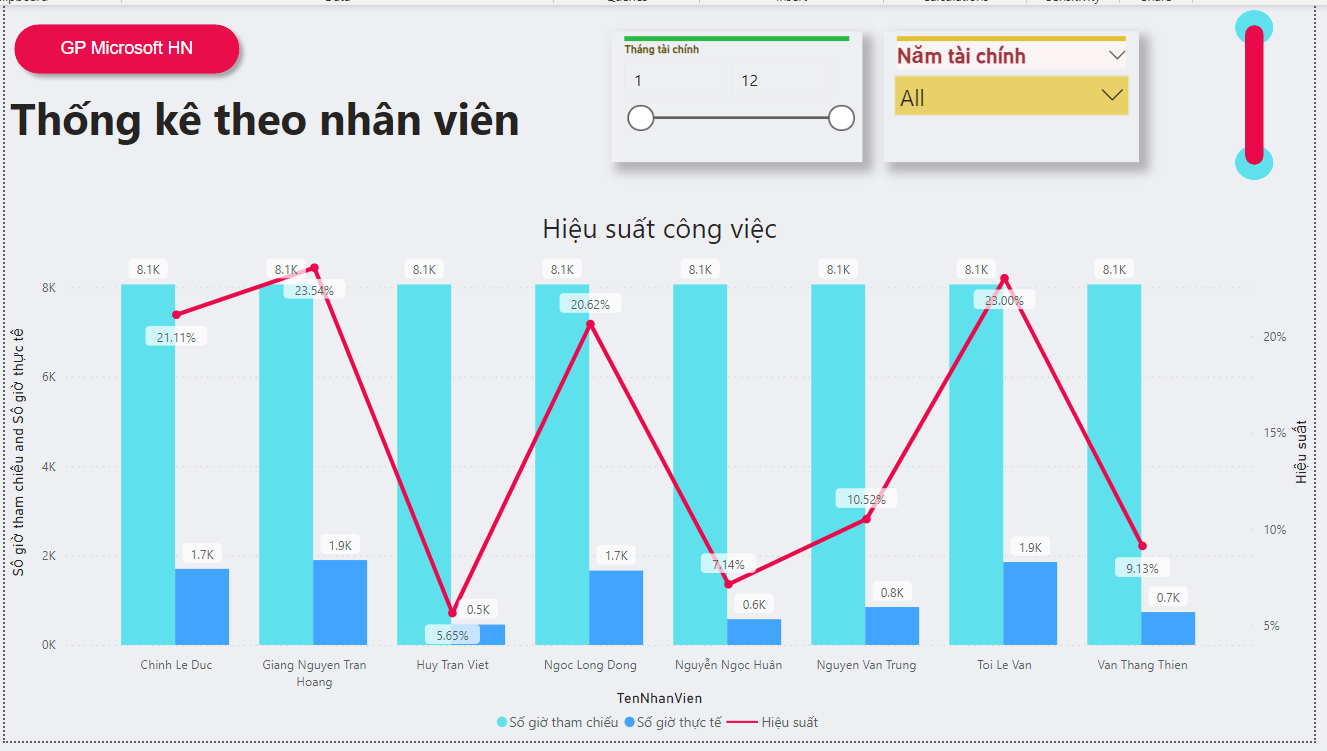

The page's visual inventory and layout, read from the dashboard file:
{"tool":"powerbi","page":{"name":"Nhân viên ","canvas":[1280,720],"ordinal":0},"visuals":[{"type":"lineClusteredColumnComboChart","title":"Hiệu suất công việc","fields":{"Category":["NhanVien.TenNhanVien"],"Y":["CongViec.SoGioThamChieu","Sum(CongViec.SoGio)"],"Y2":["CongViec.HieusuatPerMonth"]},"box":[0,199.3,1279.9,520.7],"z":2000},{"type":"shape","box":[1202.9,136.9,37.9,34.2],"z":3000},{"type":"shape","box":[1202.9,4.9,37.9,34.2],"z":4000},{"type":"shape","box":[1212.6,19.6,18.3,136.9],"z":5000},{"type":"shape","box":[0,9.8,238.4,66],"z":6000},{"type":"textbox","box":[0,75.5,563.1,123.6],"z":7000},{"type":"slicer","fields":{"Values":["Date2.Thang"]},"box":[592.6,26.2,245.8,127.7],"z":7001},{"type":"slicer","fields":{"Values":["Date2.Nam"]},"box":[859,26.2,250,127.7],"z":7002}]}

Visuals, with their boxes on the page's 1280x720 design canvas (x1, y1, x2, y2). These are canvas units, not pixel positions in the 1327x751 screenshot, which may show the page scaled, cropped or inside an application window:
"Hiệu suất công việc" lineClusteredColumnComboChart: box(0, 199, 1280, 720)
shape: box(1203, 137, 1241, 171)
shape: box(1203, 5, 1241, 39)
shape: box(1213, 20, 1231, 156)
shape: box(0, 10, 238, 76)
textbox: box(0, 76, 563, 199)
slicer - Date2.Thang: box(593, 26, 838, 154)
slicer - Date2.Nam: box(859, 26, 1109, 154)
